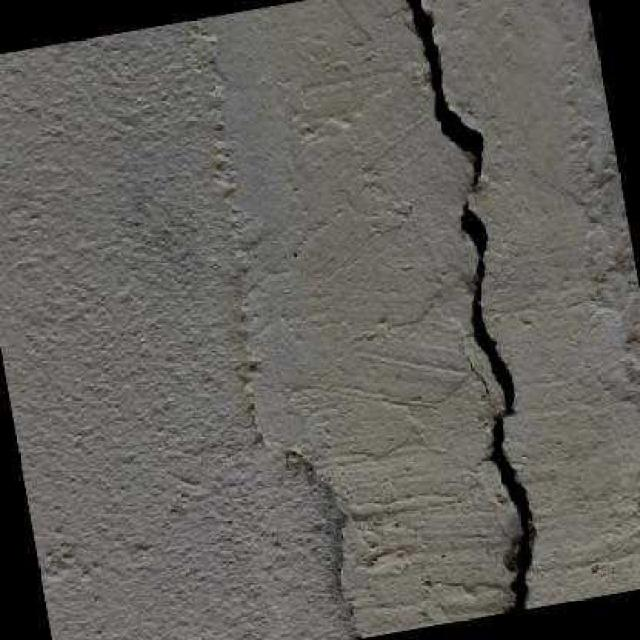D00: (399, 0, 536, 612)
